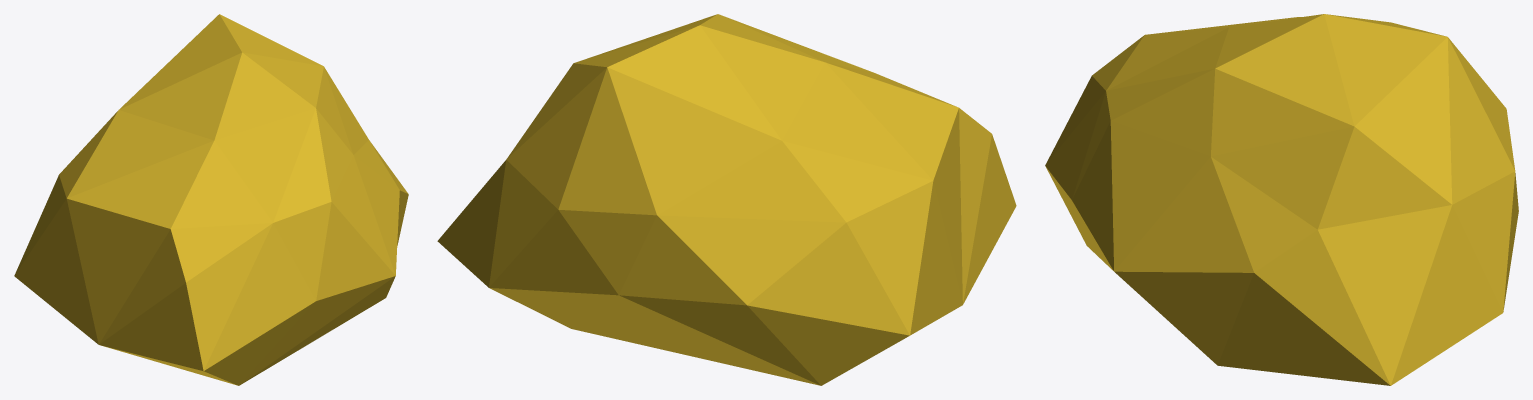
The model's file is stone02.fbx.
3 renders of one model, left to right at view 1: azimuth 30°, elevation 25°; view 2: azimuth 150°, elevation 25°; view 3: azimuth 270°, elevation 25°, orthographic. The views are drawn at different scales.
Visible parts, largest first — view 1: Icosphere; view 2: Icosphere; view 3: Icosphere.
Boxes of the visible parts, left/top/right/bottom form: Icosphere: left=14, top=14, right=408, bottom=385; Icosphere: left=437, top=14, right=1016, bottom=385; Icosphere: left=1045, top=14, right=1518, bottom=385.
Size of the model in its own units: 0.7224 by 0.4463 by 0.6107.
